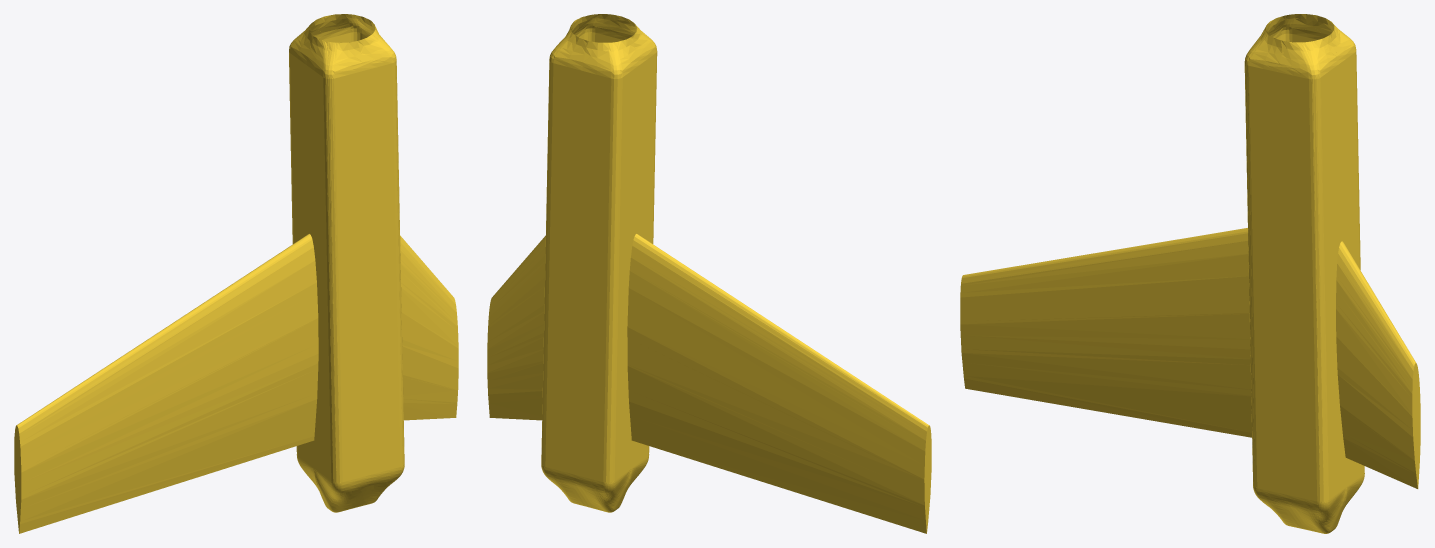
File: rotor_traseiro.dae
3 views of the same model, side by side, from view 1: azimuth 30°, elevation 25°; view 2: azimuth 150°, elevation 25°; view 3: azimuth 330°, elevation 25° (orthographic). The views are drawn at different scales.
Visible parts, largest first — view 1: rotorCm4; view 2: rotorCm4; view 3: rotorCm4.
Boxes of the visible parts, left/top/right/bottom form: rotorCm4: left=14, top=14, right=458, bottom=533; rotorCm4: left=487, top=14, right=931, bottom=533; rotorCm4: left=960, top=14, right=1420, bottom=533.
Size of the model in its own units: 0.3034 by 0.05 by 0.3178.
